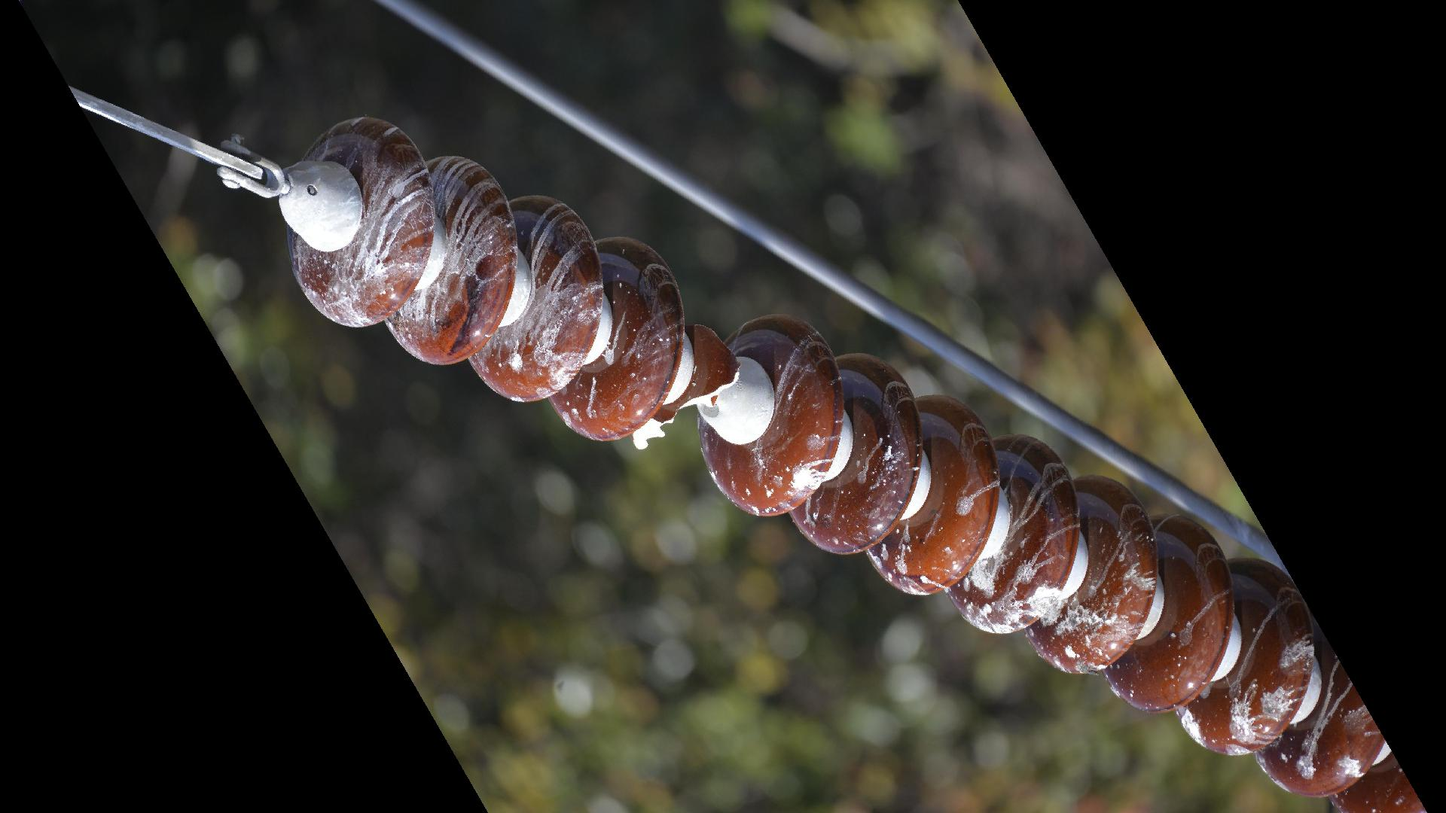insulator: (279, 110, 1425, 813)
insulator_breakage: (623, 306, 745, 461)
